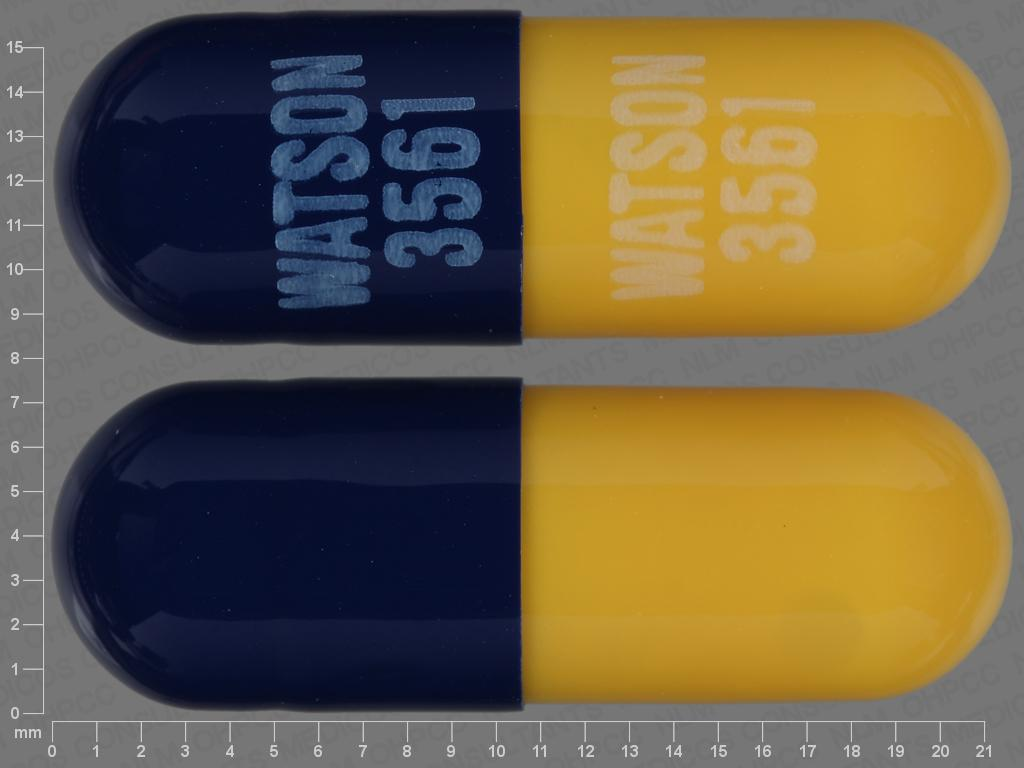Pill: (44, 0, 1024, 359), (48, 370, 1024, 718)
